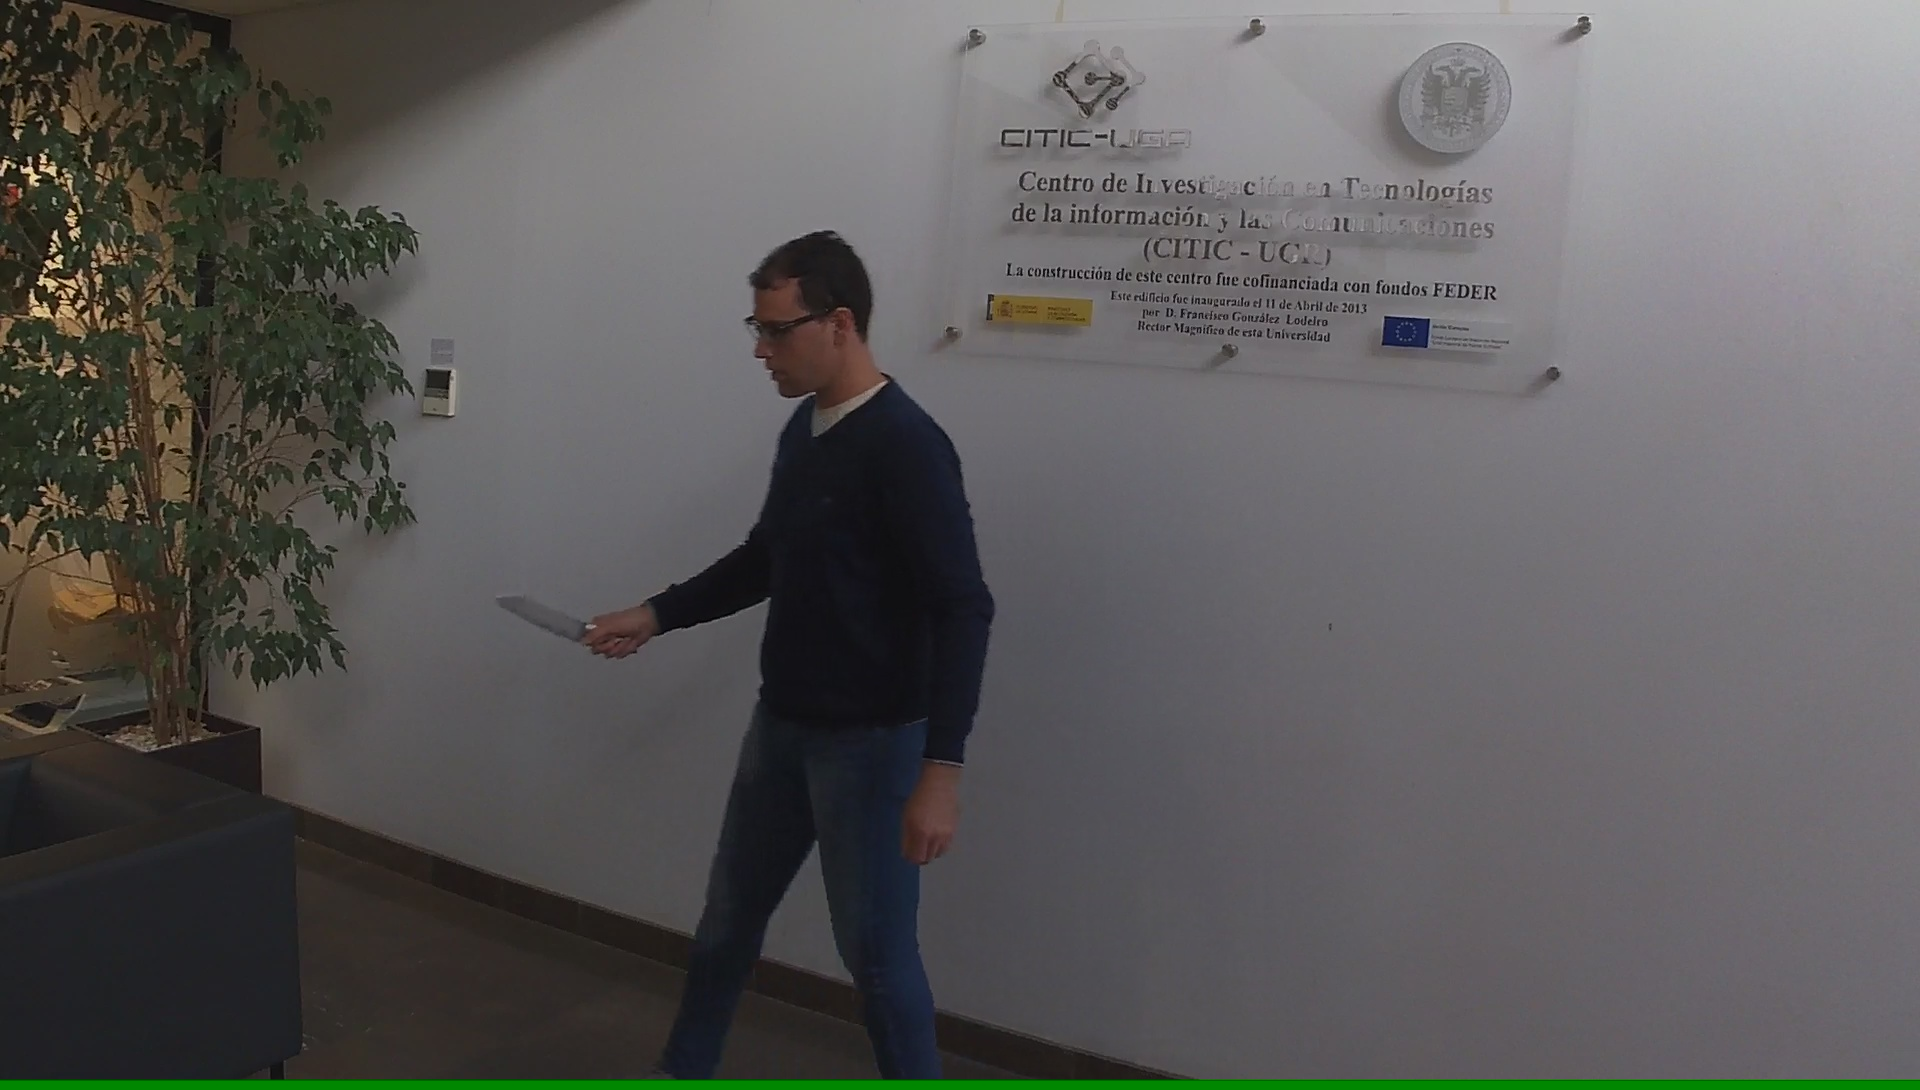knife: (491, 587, 637, 668)
